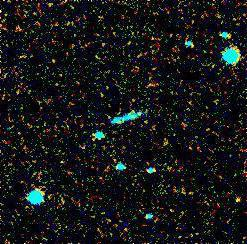star: (225, 186, 247, 216)
